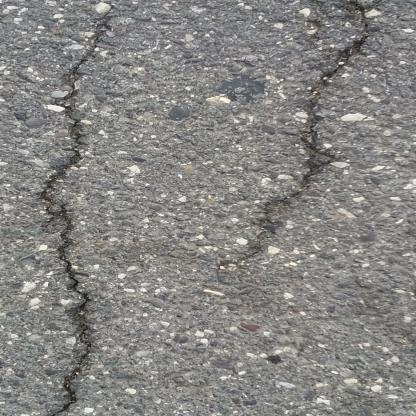Cracks: (222, 0, 372, 263), (37, 14, 113, 416)
